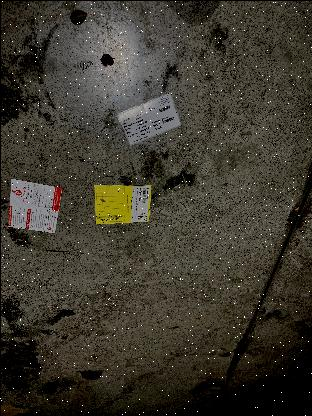Others: (108, 86, 186, 148), (6, 174, 62, 236), (91, 180, 151, 228)
